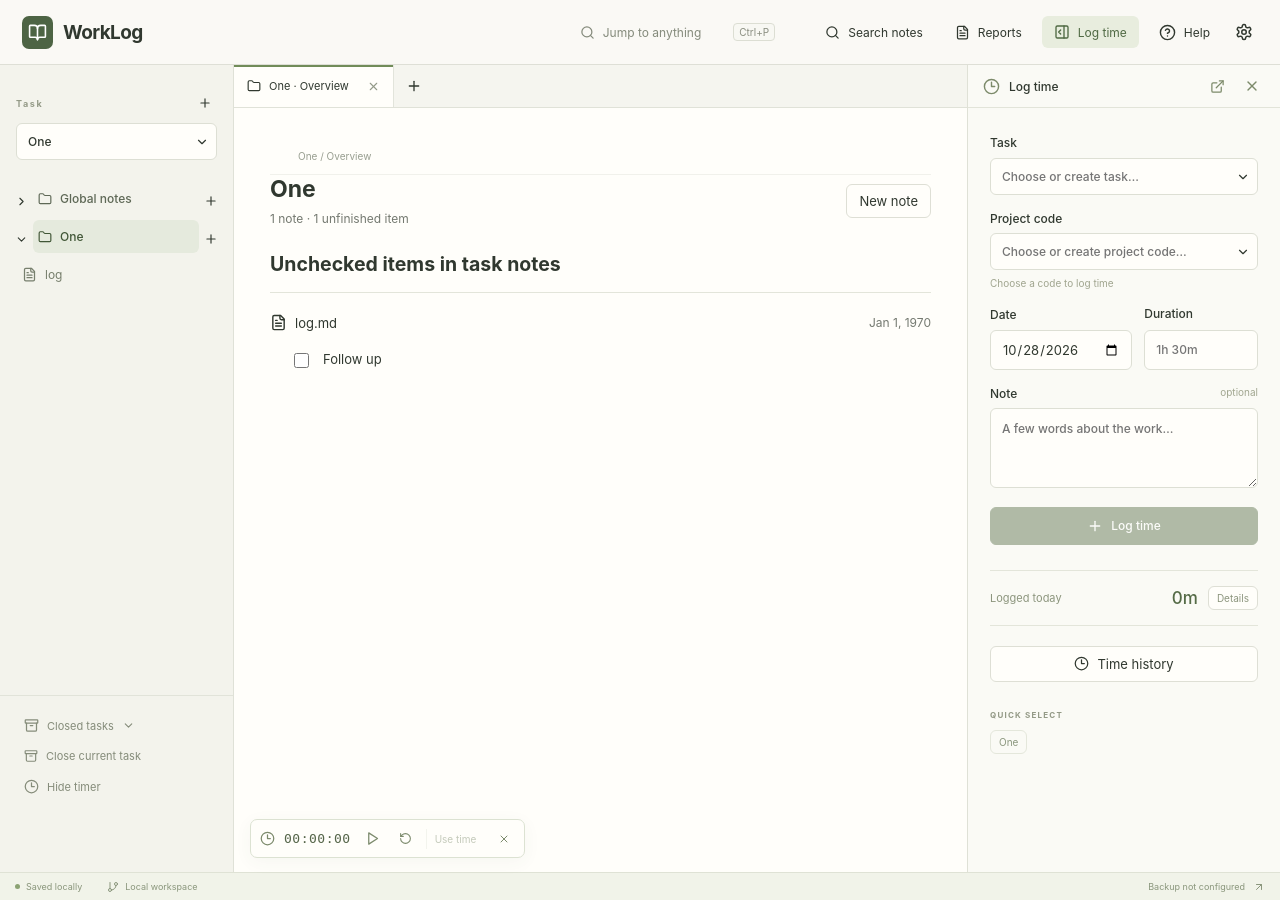
creates a task without a default code or last-used preselection
This screenshot has width=1280, height=900.
Click the 1st button titled "Open One overview · Drop here to move to One" at coordinates (116, 236), box left=33, top=220, right=199, bottom=253
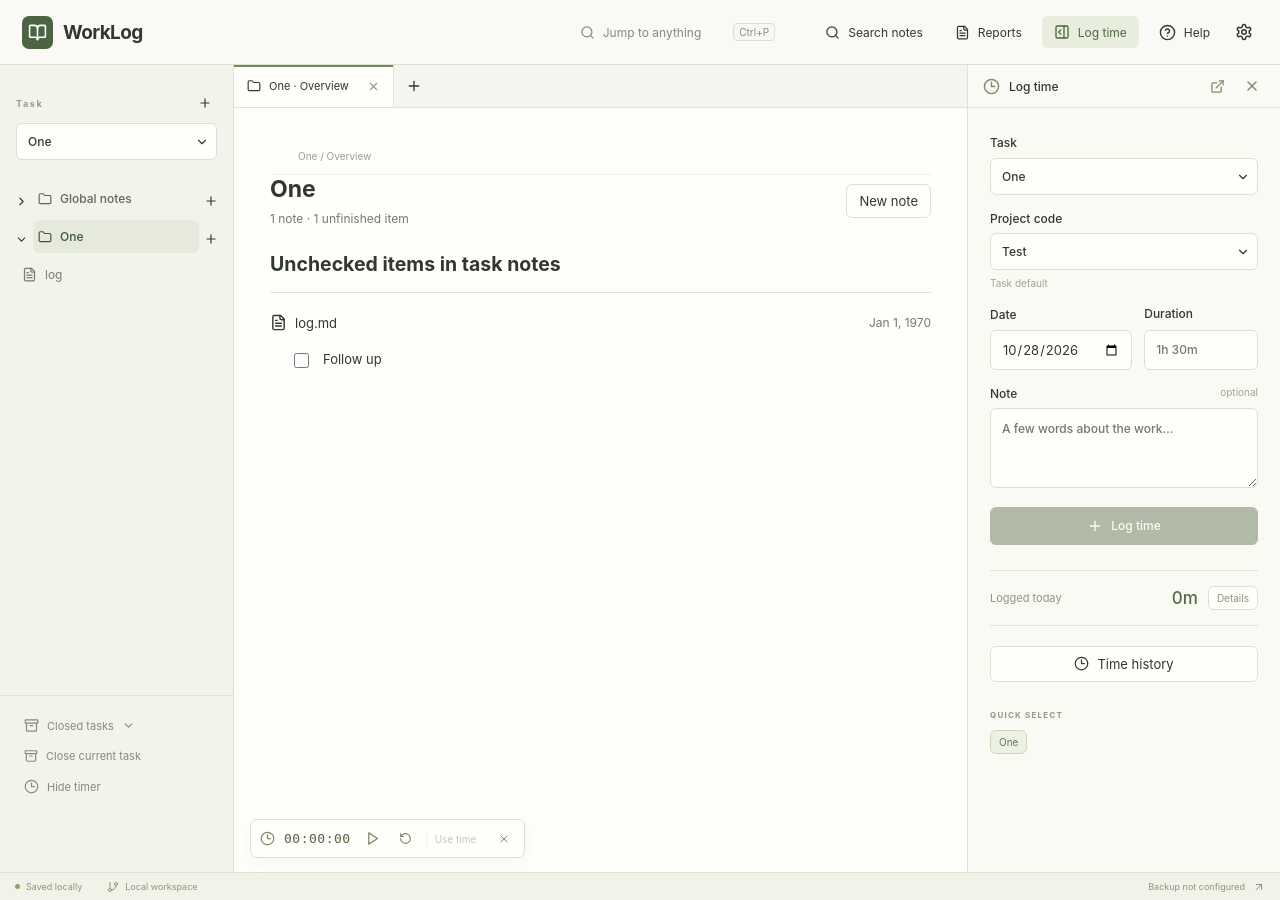
Replace the text in the 1st dropdown named "Task" with "New task" at coordinates (116, 142), box left=16, top=123, right=217, bottom=160
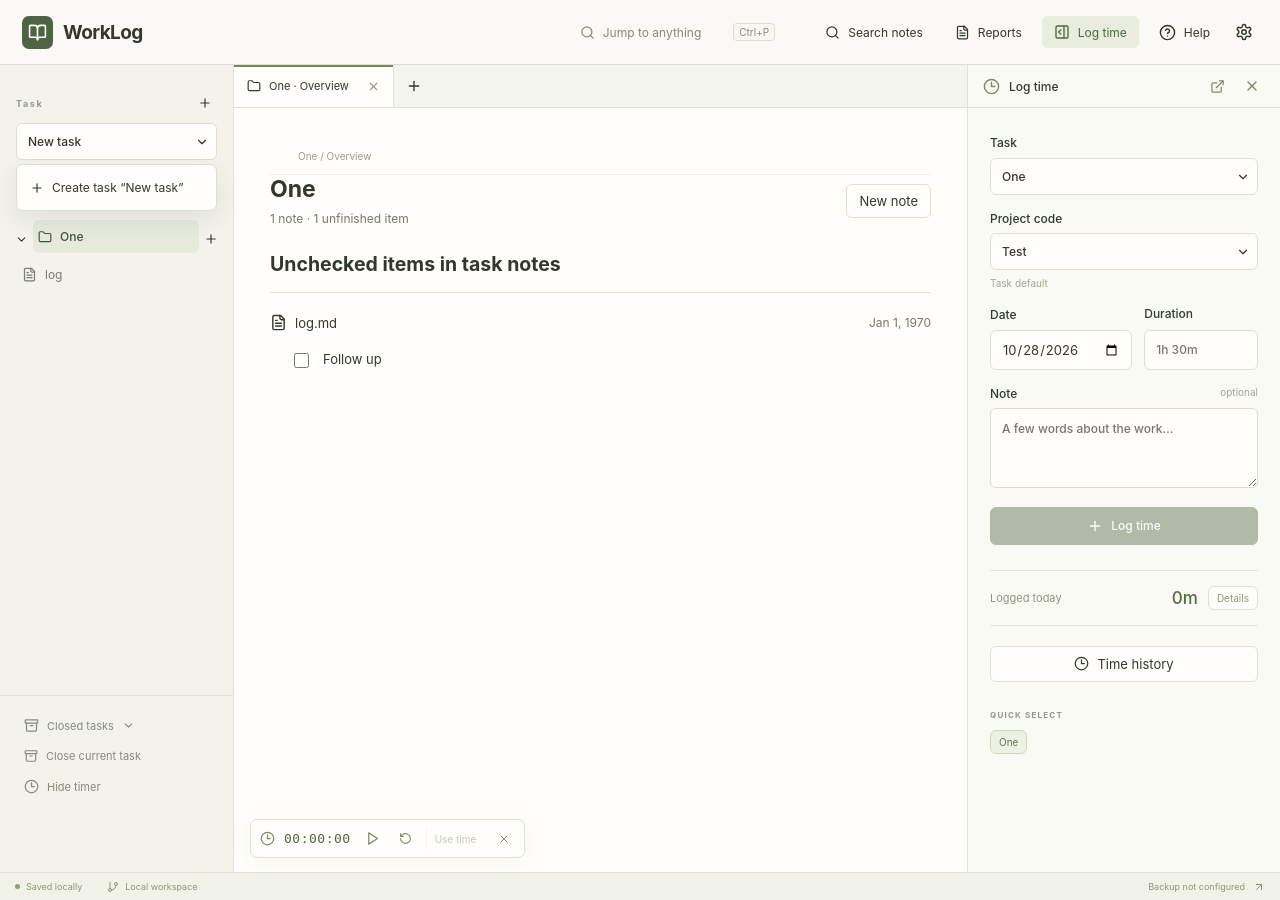
Press Enter in the 1st dropdown named "Task", box left=16, top=123, right=217, bottom=160
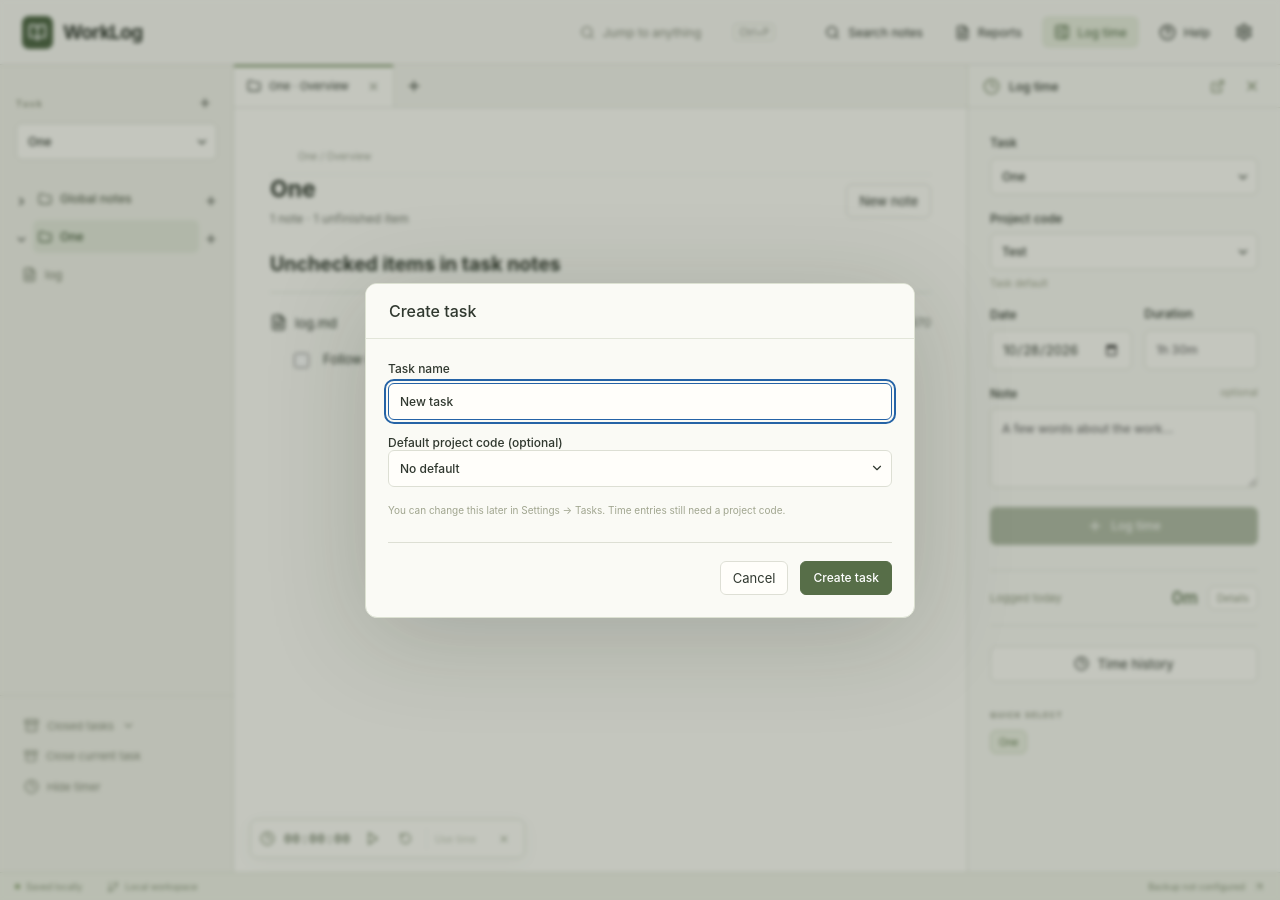
Now the dropdown labelled "project code" holds "No default", box left=388, top=450, right=892, bottom=486
Click the button "Create task" at coordinates (846, 578), box left=800, top=560, right=892, bottom=594
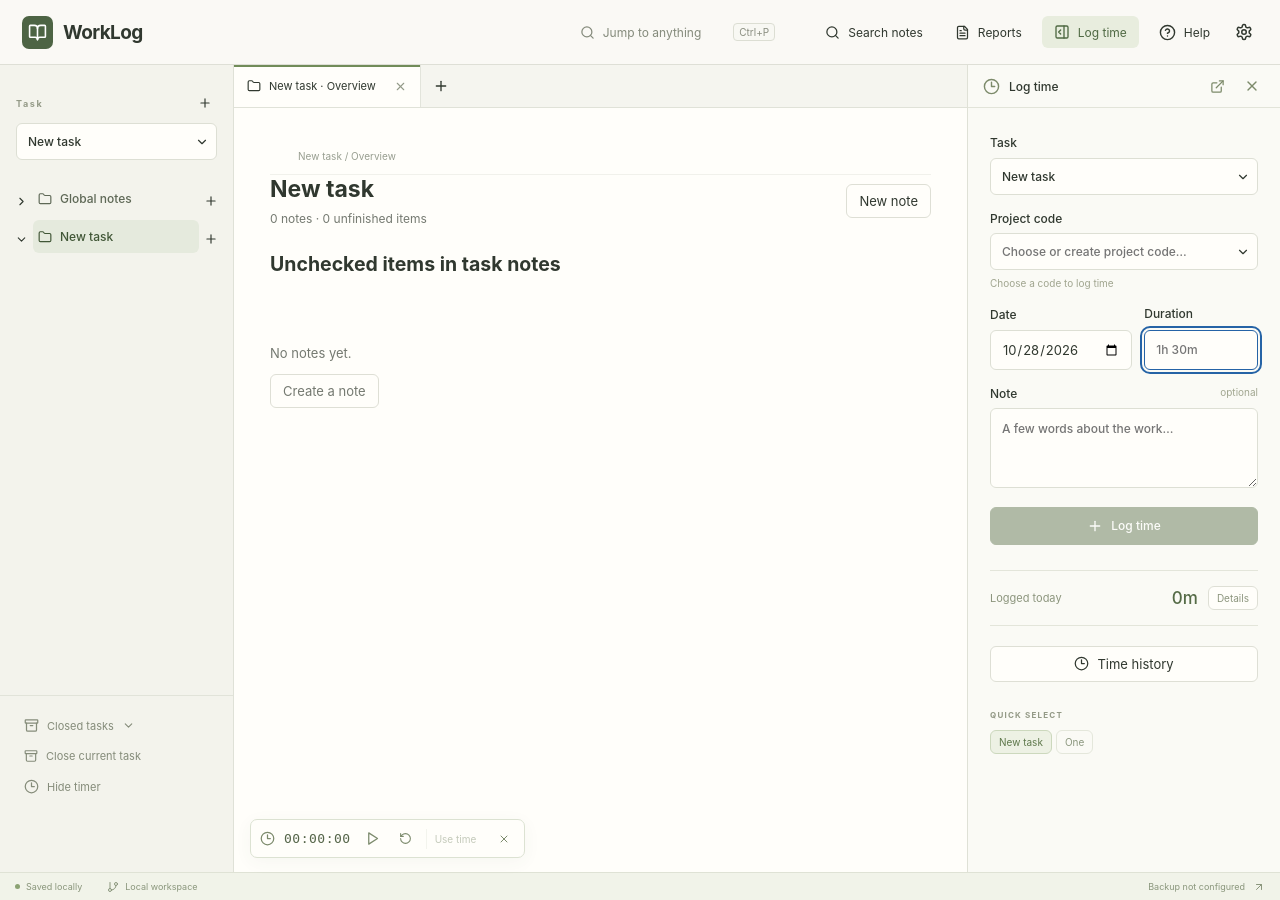
Expected: the button "Log time" below "optional" is disabled, left=990, top=507, right=1258, bottom=545
Now the heading "Create task" is gone
